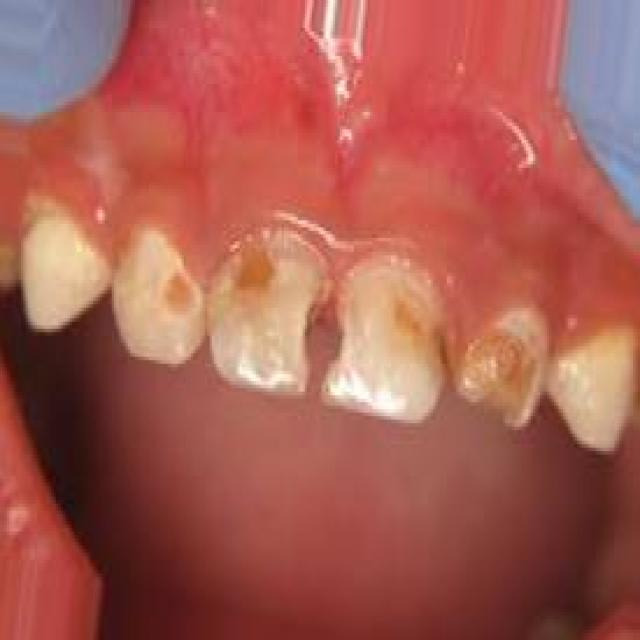caries: (200, 210, 328, 403), (327, 254, 453, 427), (109, 225, 204, 364), (458, 299, 552, 435)
